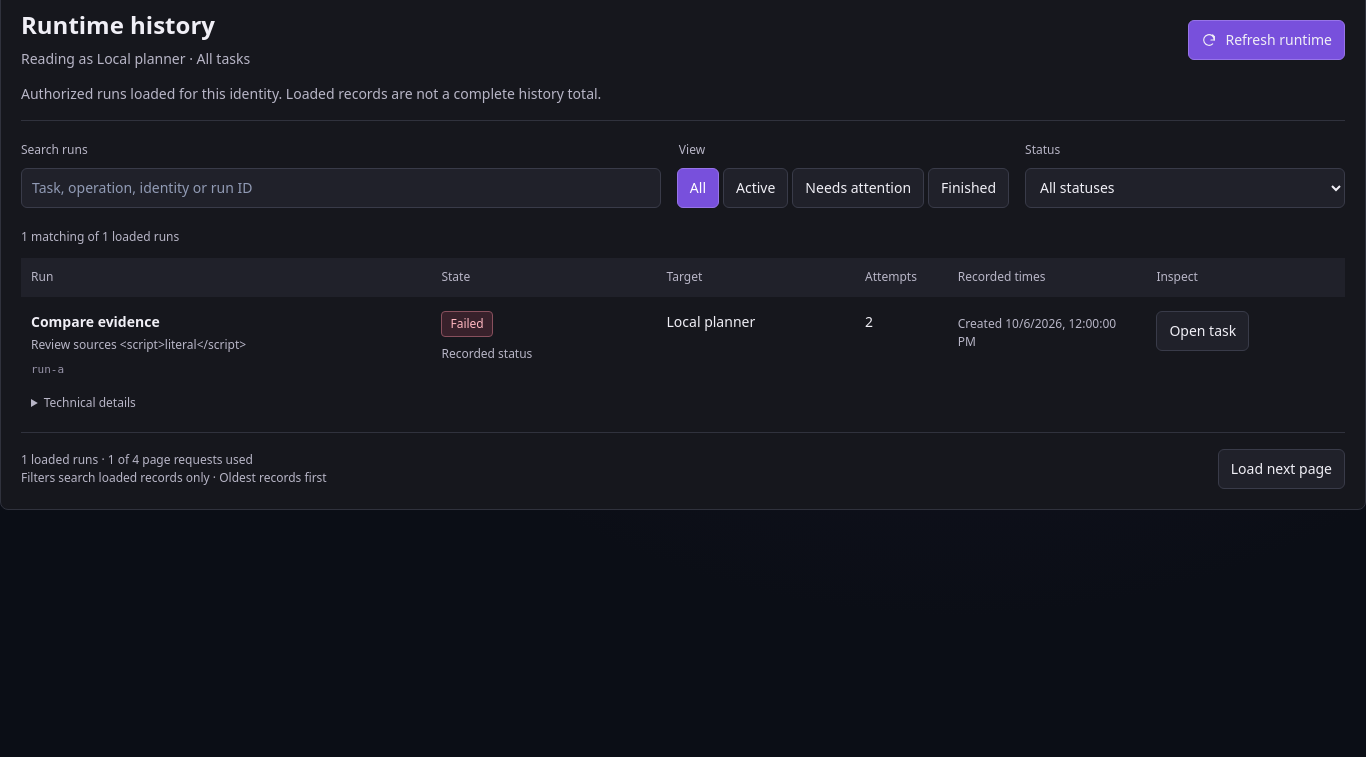
shows actual bounded snapshot evidence as inert text without synthesizing events
Click the heading "Technical details".
click(90, 403)  # box 44,394 -> 136,411
(page scrolled)
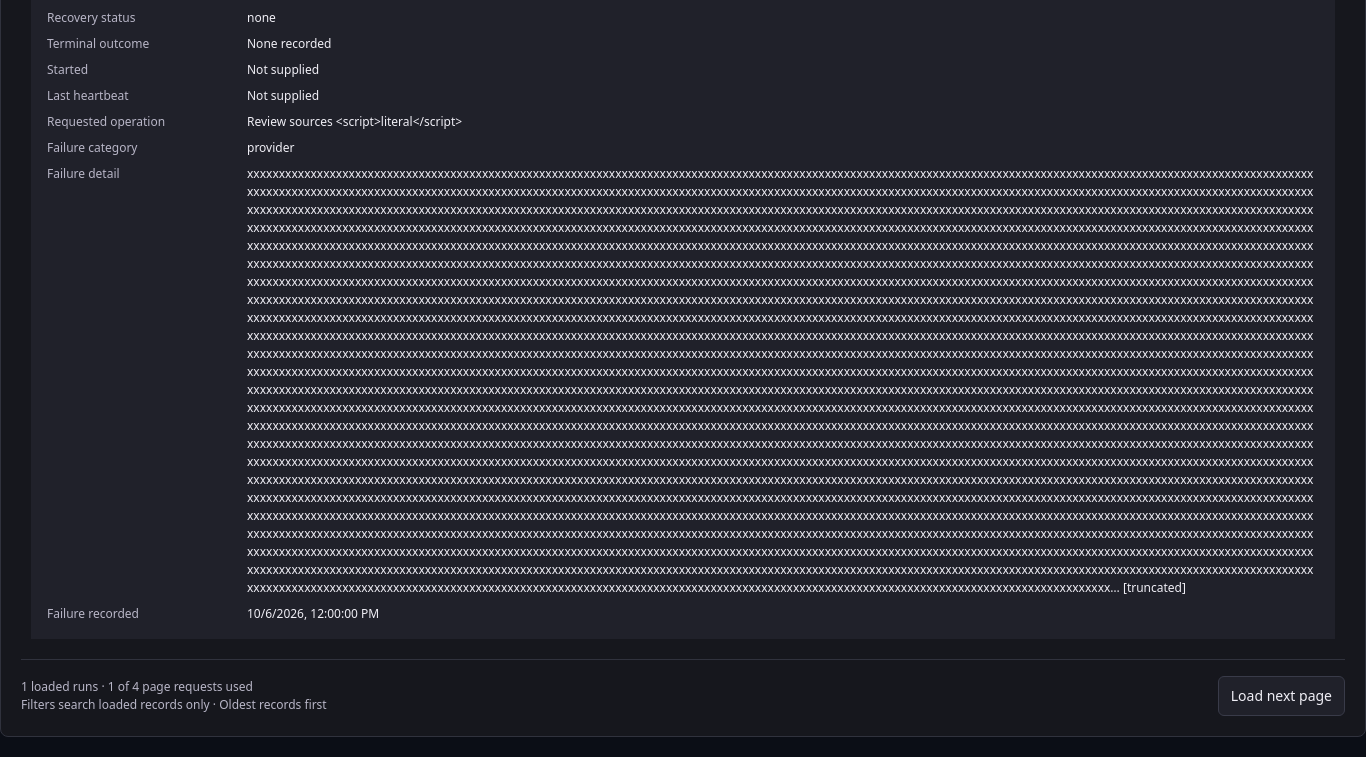
Expected: the text "provider" is shown, 247,139 -> 294,156
